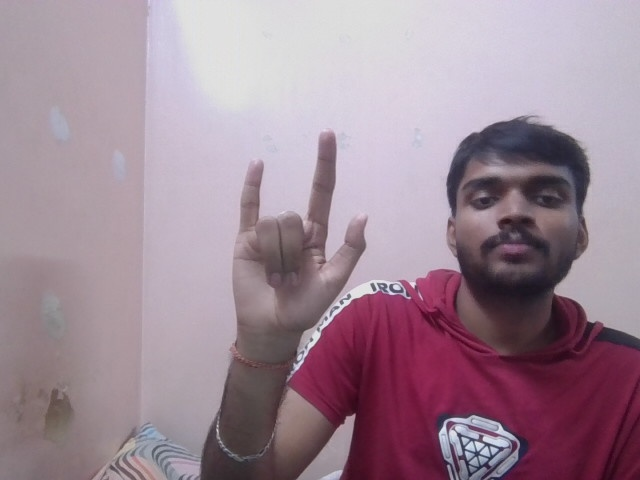I Love You: (228, 124, 367, 335)
